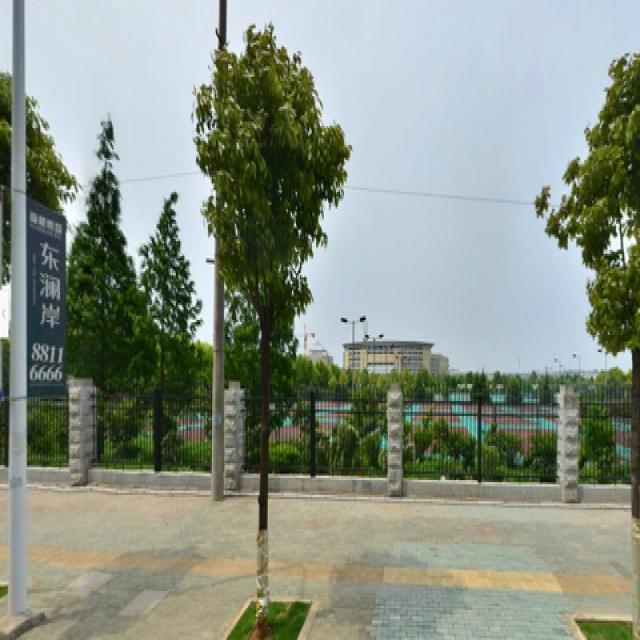cinn: (202, 19, 338, 617)
